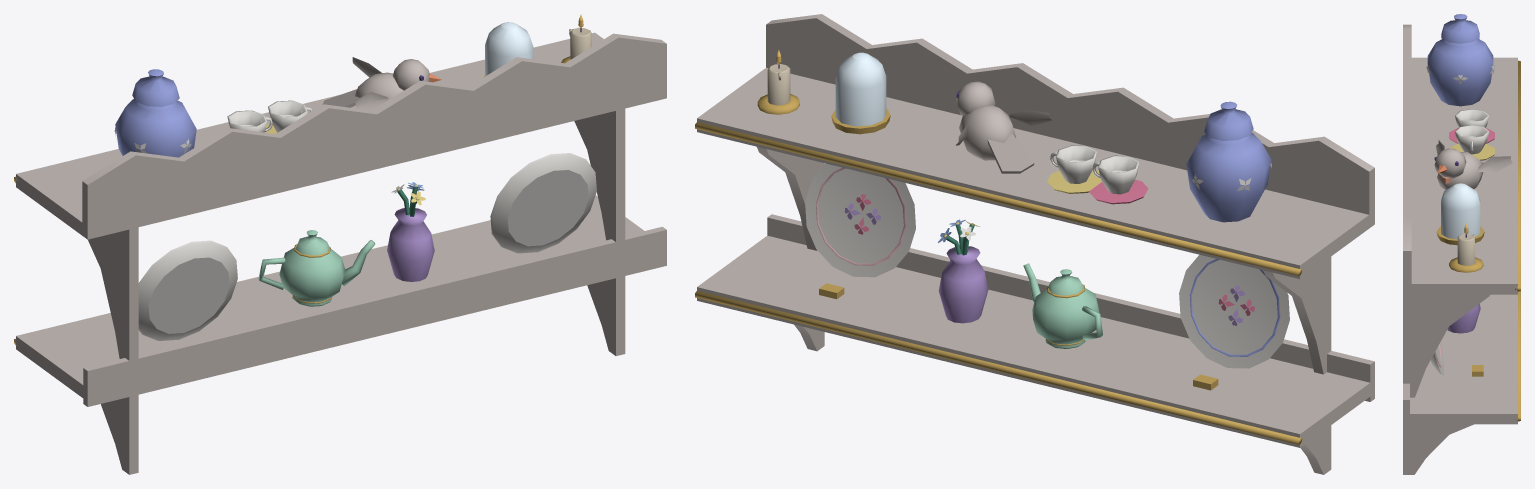
The model's file is wall_shelf_curios.glb.
The picture shows the model from 3 angles, left to right: view 1: azimuth 30°, elevation 25°; view 2: azimuth 150°, elevation 25°; view 3: azimuth 270°, elevation 25°; orthographic projection. The views are drawn at different scales.
Parts seen in each view (by area): view 1: wall_shelf_curios; view 2: wall_shelf_curios; view 3: wall_shelf_curios.
Boxes of the visible parts, box(x1,y1,x2,y2) form: wall_shelf_curios: box(14, 14, 666, 474); wall_shelf_curios: box(695, 14, 1374, 474); wall_shelf_curios: box(1403, 14, 1520, 474).
Size of what is drawn, in the model's own units: 1 by 0.6 by 0.22.
